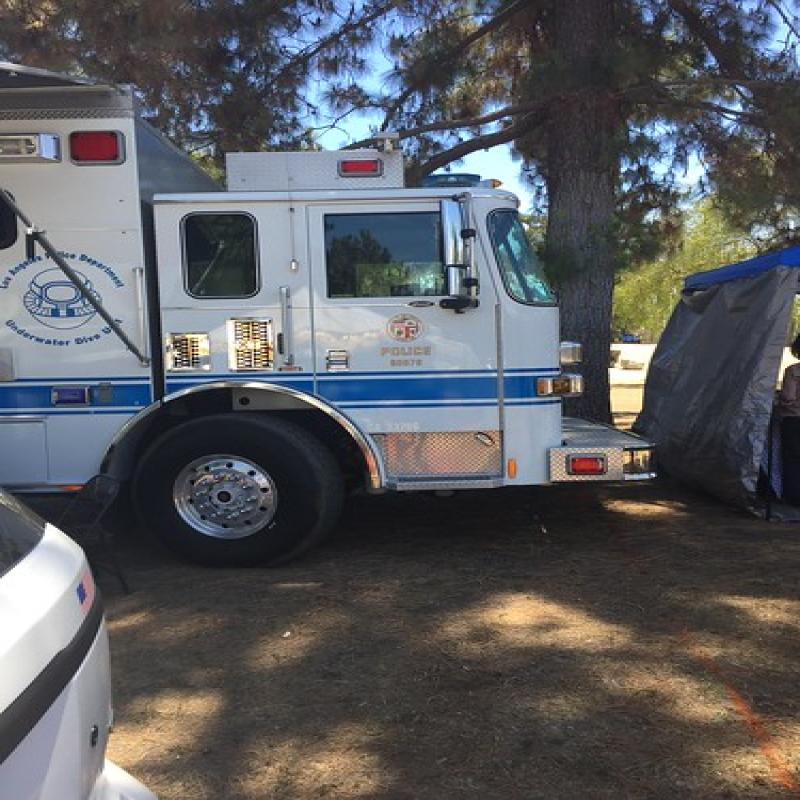AmbulanceSiren: (192, 114, 504, 218)
